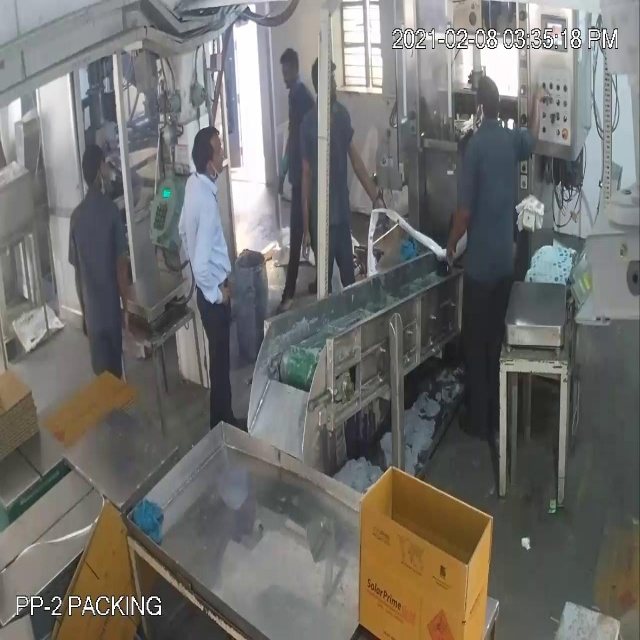Guantes: (272, 128, 296, 201)
Sin_guantes: (107, 231, 150, 338), (187, 211, 230, 314), (335, 125, 378, 212), (519, 75, 552, 187), (444, 184, 483, 273), (293, 149, 320, 276)
